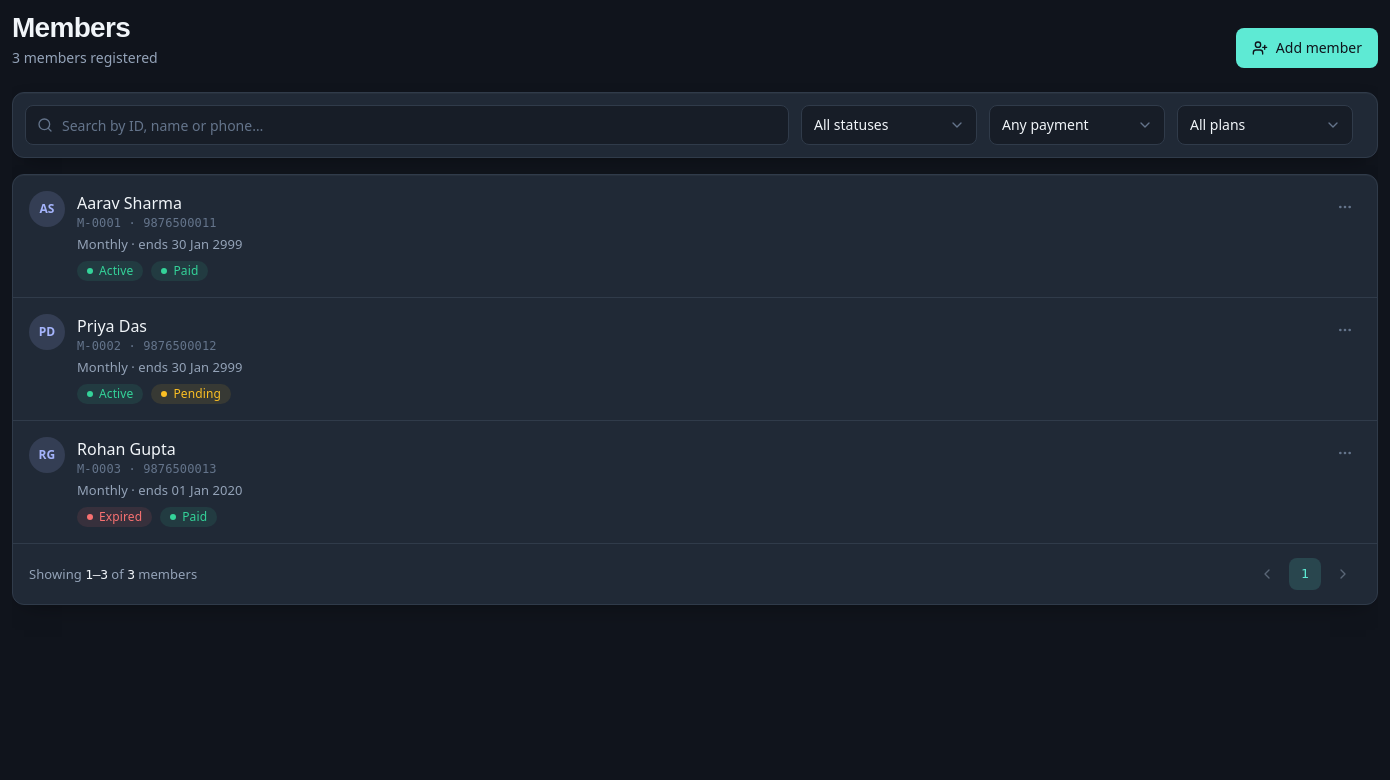
Test: Members page (card layout) › searches members by name through the API
Check: the text "Aarav Sharma" is shown, box [77, 192, 182, 214]
In the search field named "search members": (407, 125) [25, 105, 789, 145], type "priya"
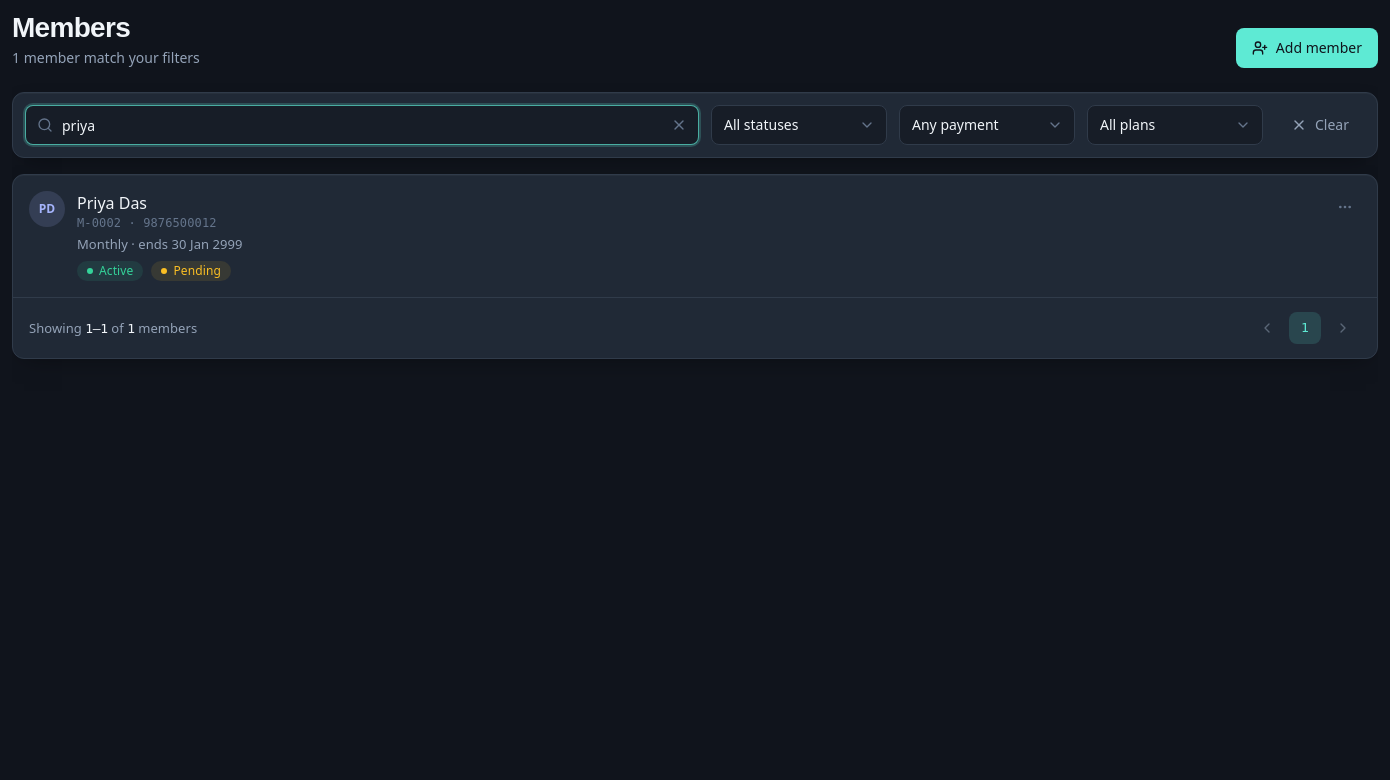
Check: the text "Priya Das" is shown, box [77, 192, 147, 214]
Check: the button "Aarav Sharma" is gone
